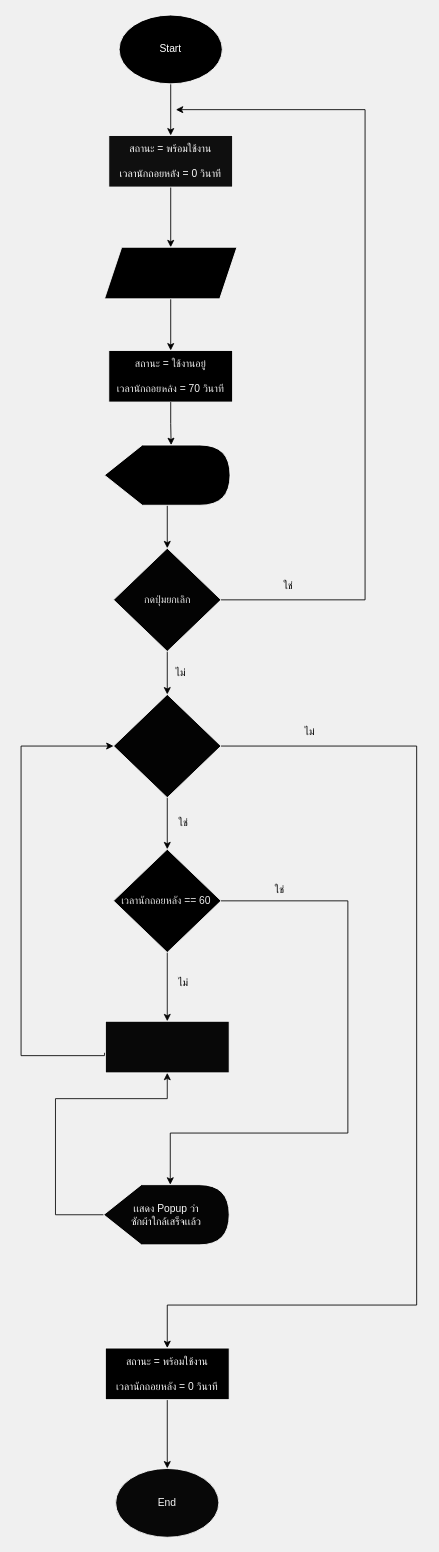
The diagram is 439 pixels wide and 1552 high, and some of its shapes have lost their labels. The shapes that lost their labels are listed below. From the top down, each one's centre as x and y in pixels, then its label:
the point at 170,272: หยอดเหรียญ
the point at 167,474: เเสดงปุุ่มยกเลิก
the point at 167,746: เวลานักถอยหลัง > 0
the point at 166,1046: เวลานักถอยหลัง - 1
